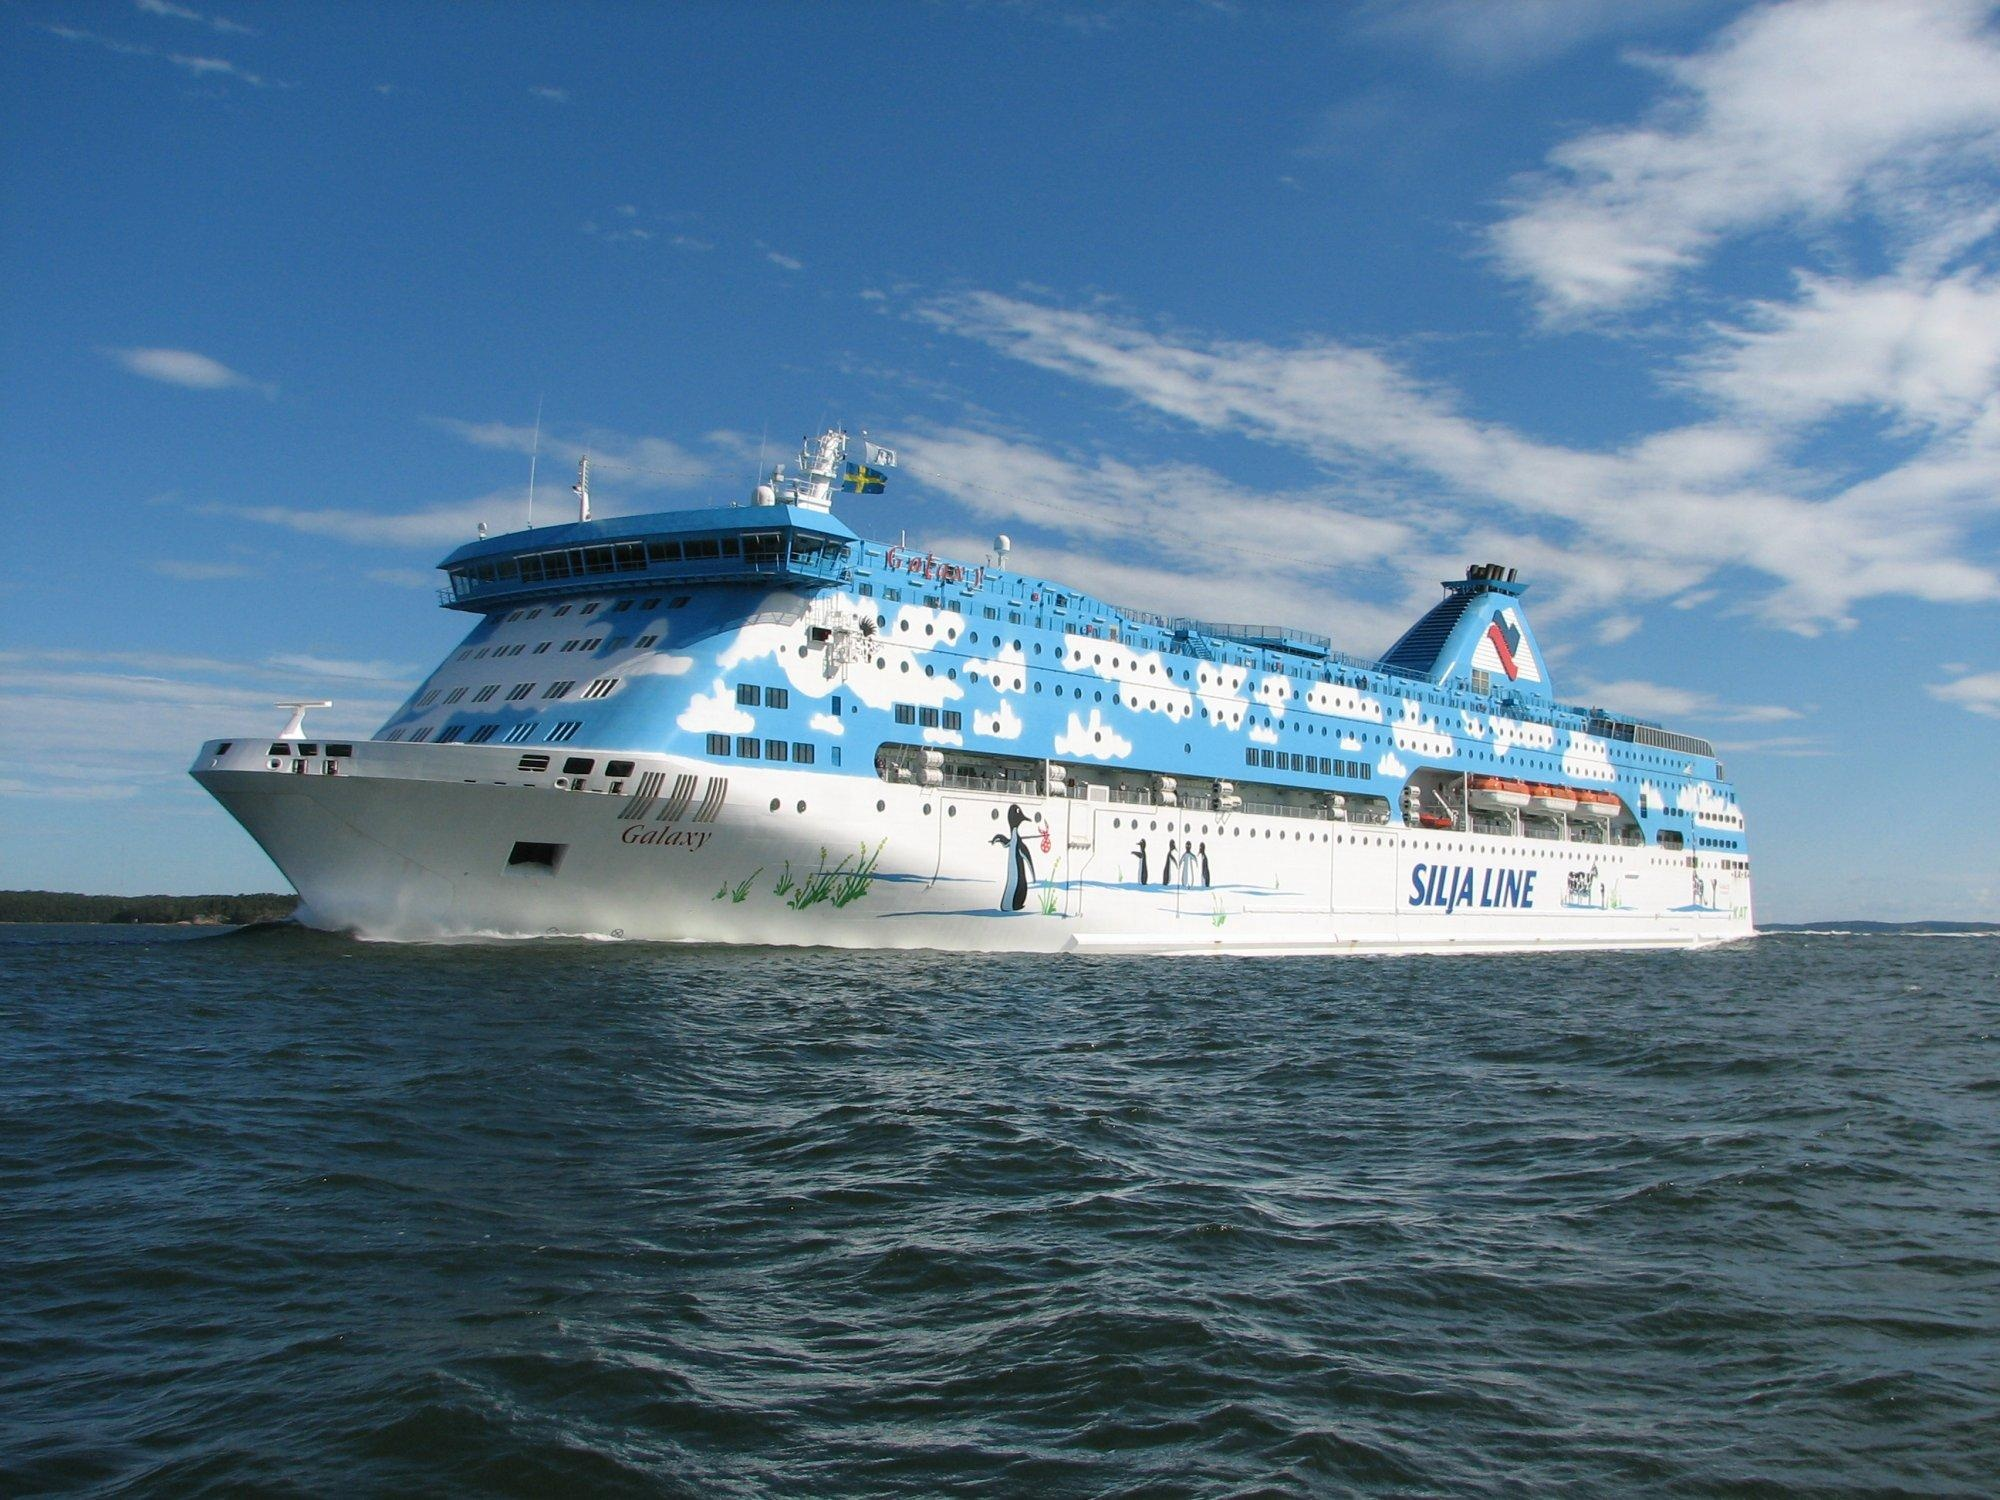youlun: (187, 422, 1759, 953)
